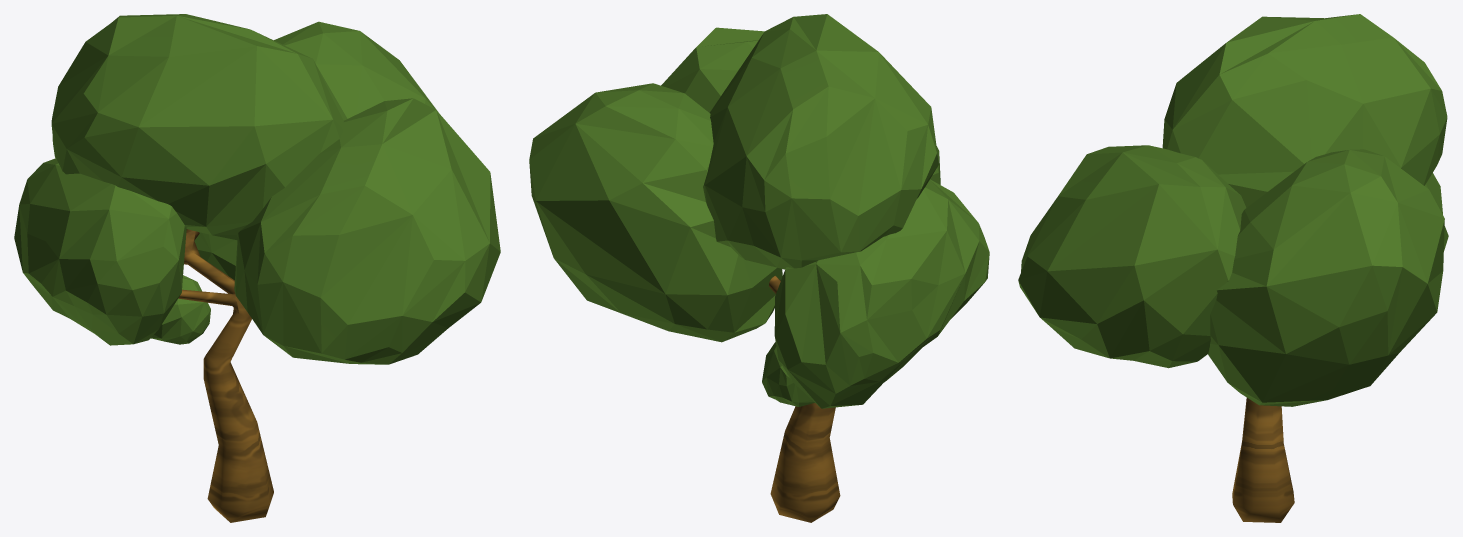
The model's file is ter11.fbx.
3 renders of one model, left to right at view 1: azimuth 30°, elevation 25°; view 2: azimuth 150°, elevation 25°; view 3: azimuth 270°, elevation 25°, orthographic. The views are drawn at different scales.
Parts seen in each view (by area): view 1: leaves, trunktree; view 2: leaves, trunktree; view 3: leaves, trunktree.
Boxes of the visible parts, left/top/right/bottom form: leaves: left=14, top=14, right=500, bottom=364; trunktree: left=178, top=229, right=273, bottom=522; leaves: left=529, top=14, right=989, bottom=408; trunktree: left=769, top=276, right=840, bottom=522; leaves: left=1018, top=14, right=1448, bottom=406; trunktree: left=1232, top=397, right=1294, bottom=522.
Bounding box in the file's own units: 920 × 1100 × 893.
2 materials, 2 textured.
